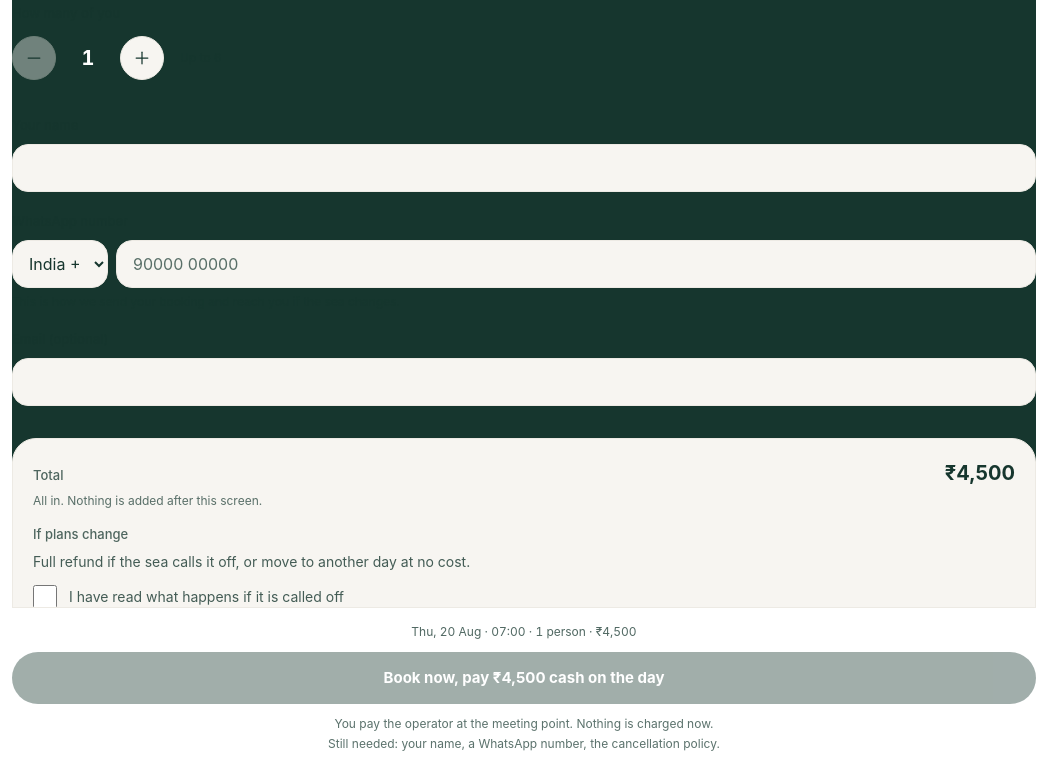
CheckoutForm — working, and a refusal that is seen (T08 A) › keeps its colour while it works: busy and saying so, never disabled
Type "Asha Menon" into the field labelled "Your name" at coordinates (524, 168), box [12,144,1036,192]
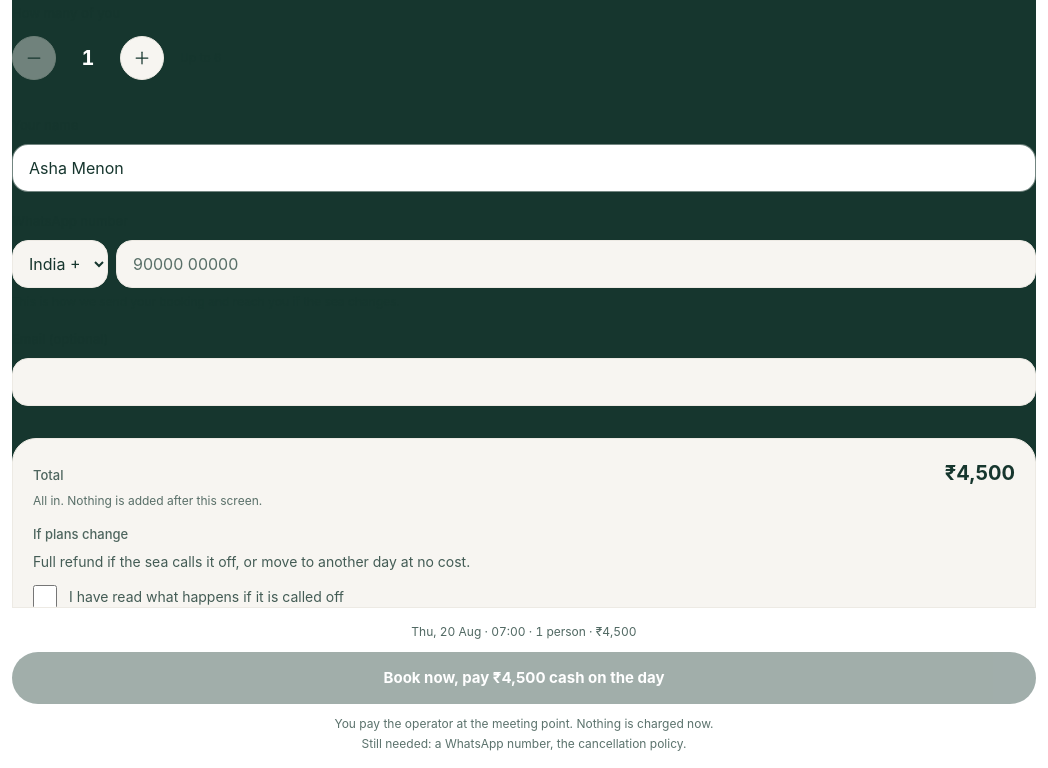
Type "+919000000000" into the field labelled "WhatsApp number" at coordinates (576, 264), box [116,240,1036,288]
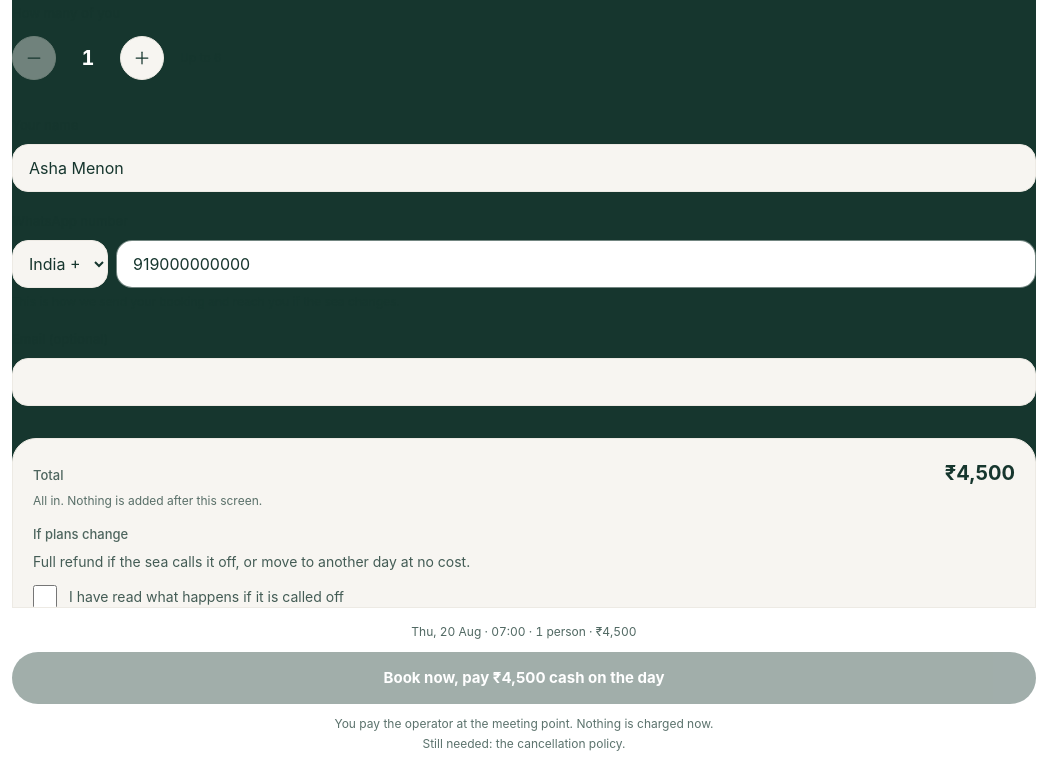
Click the checkbox labelled "I have read what happens if it is called off" at coordinates (45, 597), box [33,585,57,609]
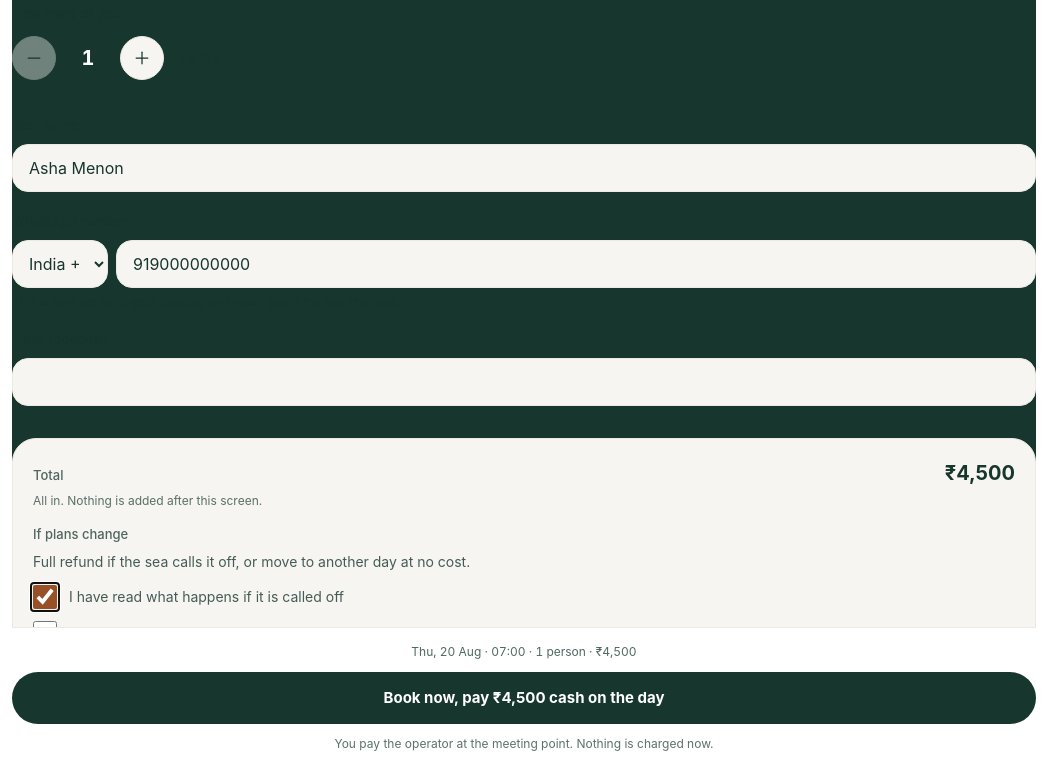
Click the button "Book now, pay ₹4,500 cash on the day" at coordinates (524, 698), box [12,672,1036,724]
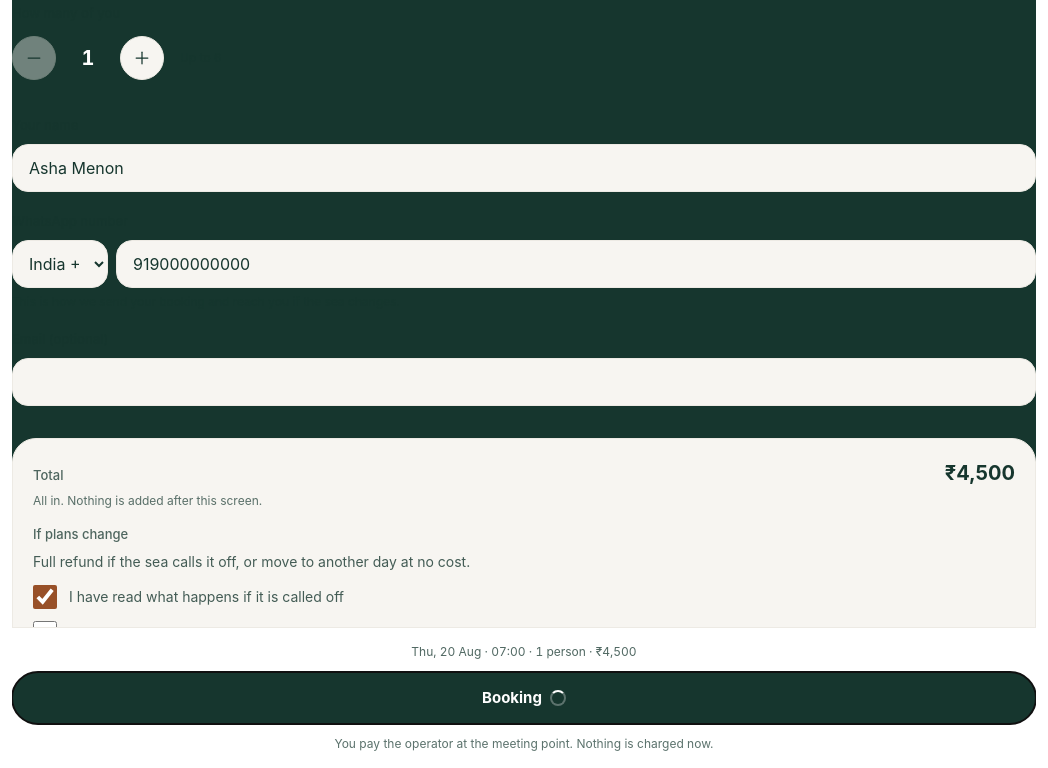
Expected: the button "Booking" is enabled, [12,672,1036,724]
Expected: the button with class "button-ring" is shown, [550,690,566,706]
